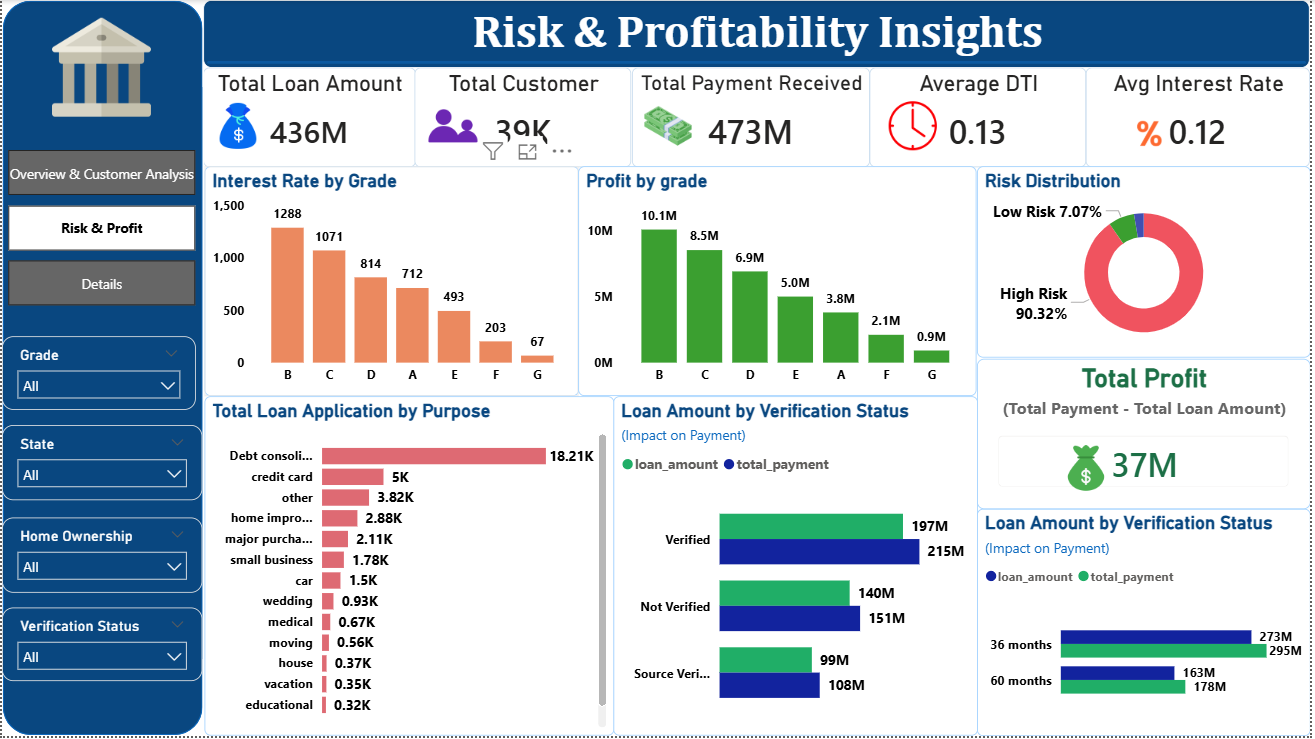

Layout of this report page (visuals, bound fields, positions):
{"tool":"powerbi","page":{"name":"Risk & Profit","canvas":[1280,720],"ordinal":1},"visuals":[{"type":"cardVisual","title":"Total Loan Amount","fields":{"Data":["Date Table.Total Loan Amount"]},"box":[197.4,66.3,207.7,97.2],"z":0},{"type":"cardVisual","title":"Total Customer","fields":{"Data":["Date Table.Total Customers"]},"box":[403.6,66.3,212.1,97.2],"z":1000},{"type":"cardVisual","title":"Total Payment Received","fields":{"Data":["Date Table.Total Payment Received"]},"box":[615.7,66.3,232.7,97.2],"z":2000},{"type":"cardVisual","title":"Average DTI","fields":{"Data":["Date Table.Average DTI"]},"box":[848.4,66.3,212.1,97.2],"z":3000},{"type":"cardVisual","title":"Avg Interest Rate","fields":{"Data":["Date Table.Average Interest Rate"]},"box":[1060.5,66.3,219.5,97.2],"z":4000},{"type":"shape","box":[0,0,197.4,720.3],"z":5000},{"type":"shape","title":"Risk & Profitability Insights","box":[197.4,0,1082.6,66.3],"z":6000},{"type":"columnChart","title":"Interest Rate by Grade","fields":{"Category":["financial_loan.grade"],"Y":["Sum(financial_loan.int_rate)"]},"box":[197.7,163.1,366.5,225.1],"z":7000},{"type":"columnChart","fields":{"Category":["financial_loan.grade"],"Y":["Date Table.Profit"]},"box":[564.2,163.1,389.6,225.1],"z":8000},{"type":"donutChart","title":"Risk Distribution","fields":{"Category":["financial_loan.Risk Category"],"Y":["CountNonNull(financial_loan.id)"]},"box":[953.9,163.1,326.1,187.6],"z":9000},{"type":"clusteredBarChart","title":"Loan Amount by Verification Status","fields":{"Category":["financial_loan.verification_status"],"Y":["Sum(financial_loan.loan_amount)","Sum(financial_loan.total_payment)"]},"box":[597.4,388.2,356.4,331.9],"z":10000},{"type":"clusteredBarChart","title":"Loan Amount by Verification Status","fields":{"Y":["Sum(financial_loan.loan_amount)","Sum(financial_loan.total_payment)"],"Category":["financial_loan.term"]},"box":[953.9,497.9,326.1,222.2],"z":11000},{"type":"barChart","title":"Total Loan Application by Purpose","fields":{"Y":["CountNonNull(financial_loan.application_type)"],"Category":["financial_loan.purpose"]},"box":[197.7,388.2,401.2,331.9],"z":12000},{"type":"cardVisual","title":"Total Profit","fields":{"Data":["Date Table.Profit"]},"box":[953.9,350.7,326.1,147.2],"z":13000},{"type":"image","box":[1028.9,435.8,63.5,44.7],"z":14000},{"type":"image","box":[196.3,99.6,70.7,47.6],"z":15000},{"type":"image","box":[405.5,99.6,70.7,47.6],"z":16000},{"type":"image","box":[616.2,99.6,70.7,47.6],"z":17000},{"type":"image","box":[865.8,99.6,50.5,47.6],"z":18000},{"type":"image","box":[1075.1,99.6,95.2,63.5],"z":19000},{"type":"slicer","fields":{"Values":["financial_loan.grade"]},"box":[0,328.9,189.5,72.1],"z":19001},{"type":"slicer","fields":{"Values":["financial_loan.address_state"]},"box":[0,415.8,195.7,73.4],"z":19002},{"type":"slicer","fields":{"Values":["financial_loan.home_ownership"]},"box":[0,506.3,195.7,73.4],"z":19003},{"type":"slicer","fields":{"Values":["financial_loan.verification_status"]},"box":[0,594.3,195.7,72.1],"z":19004},{"type":"image","box":[49.1,8.7,96.7,114],"z":19005},{"type":"pageNavigator","box":[5.8,147.2,183.3,153],"z":19006}]}

Visuals, with their boxes in screenshot pixels (x1, y1, x2, y2), scaled from the page's 1280x720 canvas onto the 1315x739 screenshot:
"Total Loan Amount" cardVisual: locate(203, 68, 416, 168)
"Total Customer" cardVisual: locate(415, 68, 633, 168)
"Total Payment Received" cardVisual: locate(633, 68, 872, 168)
"Average DTI" cardVisual: locate(872, 68, 1089, 168)
"Avg Interest Rate" cardVisual: locate(1089, 68, 1314, 168)
shape: locate(0, 0, 203, 738)
"Risk & Profitability Insights" shape: locate(203, 0, 1314, 68)
"Interest Rate by Grade" columnChart: locate(203, 167, 580, 398)
columnChart - financial_loan.grade x Date Table.Profit: locate(580, 167, 980, 398)
"Risk Distribution" donutChart: locate(980, 167, 1314, 360)
"Loan Amount by Verification Status" clusteredBarChart: locate(614, 398, 980, 738)
"Loan Amount by Verification Status" clusteredBarChart: locate(980, 511, 1314, 738)
"Total Loan Application by Purpose" barChart: locate(203, 398, 615, 738)
"Total Profit" cardVisual: locate(980, 360, 1314, 511)
image: locate(1057, 447, 1122, 493)
image: locate(202, 102, 274, 151)
image: locate(417, 102, 489, 151)
image: locate(633, 102, 706, 151)
image: locate(889, 102, 941, 151)
image: locate(1104, 102, 1202, 167)
slicer - financial_loan.grade: locate(0, 338, 195, 412)
slicer - financial_loan.address_state: locate(0, 427, 201, 502)
slicer - financial_loan.home_ownership: locate(0, 520, 201, 595)
slicer - financial_loan.verification_status: locate(0, 610, 201, 684)
image: locate(50, 9, 150, 126)
pageNavigator: locate(6, 151, 194, 308)
